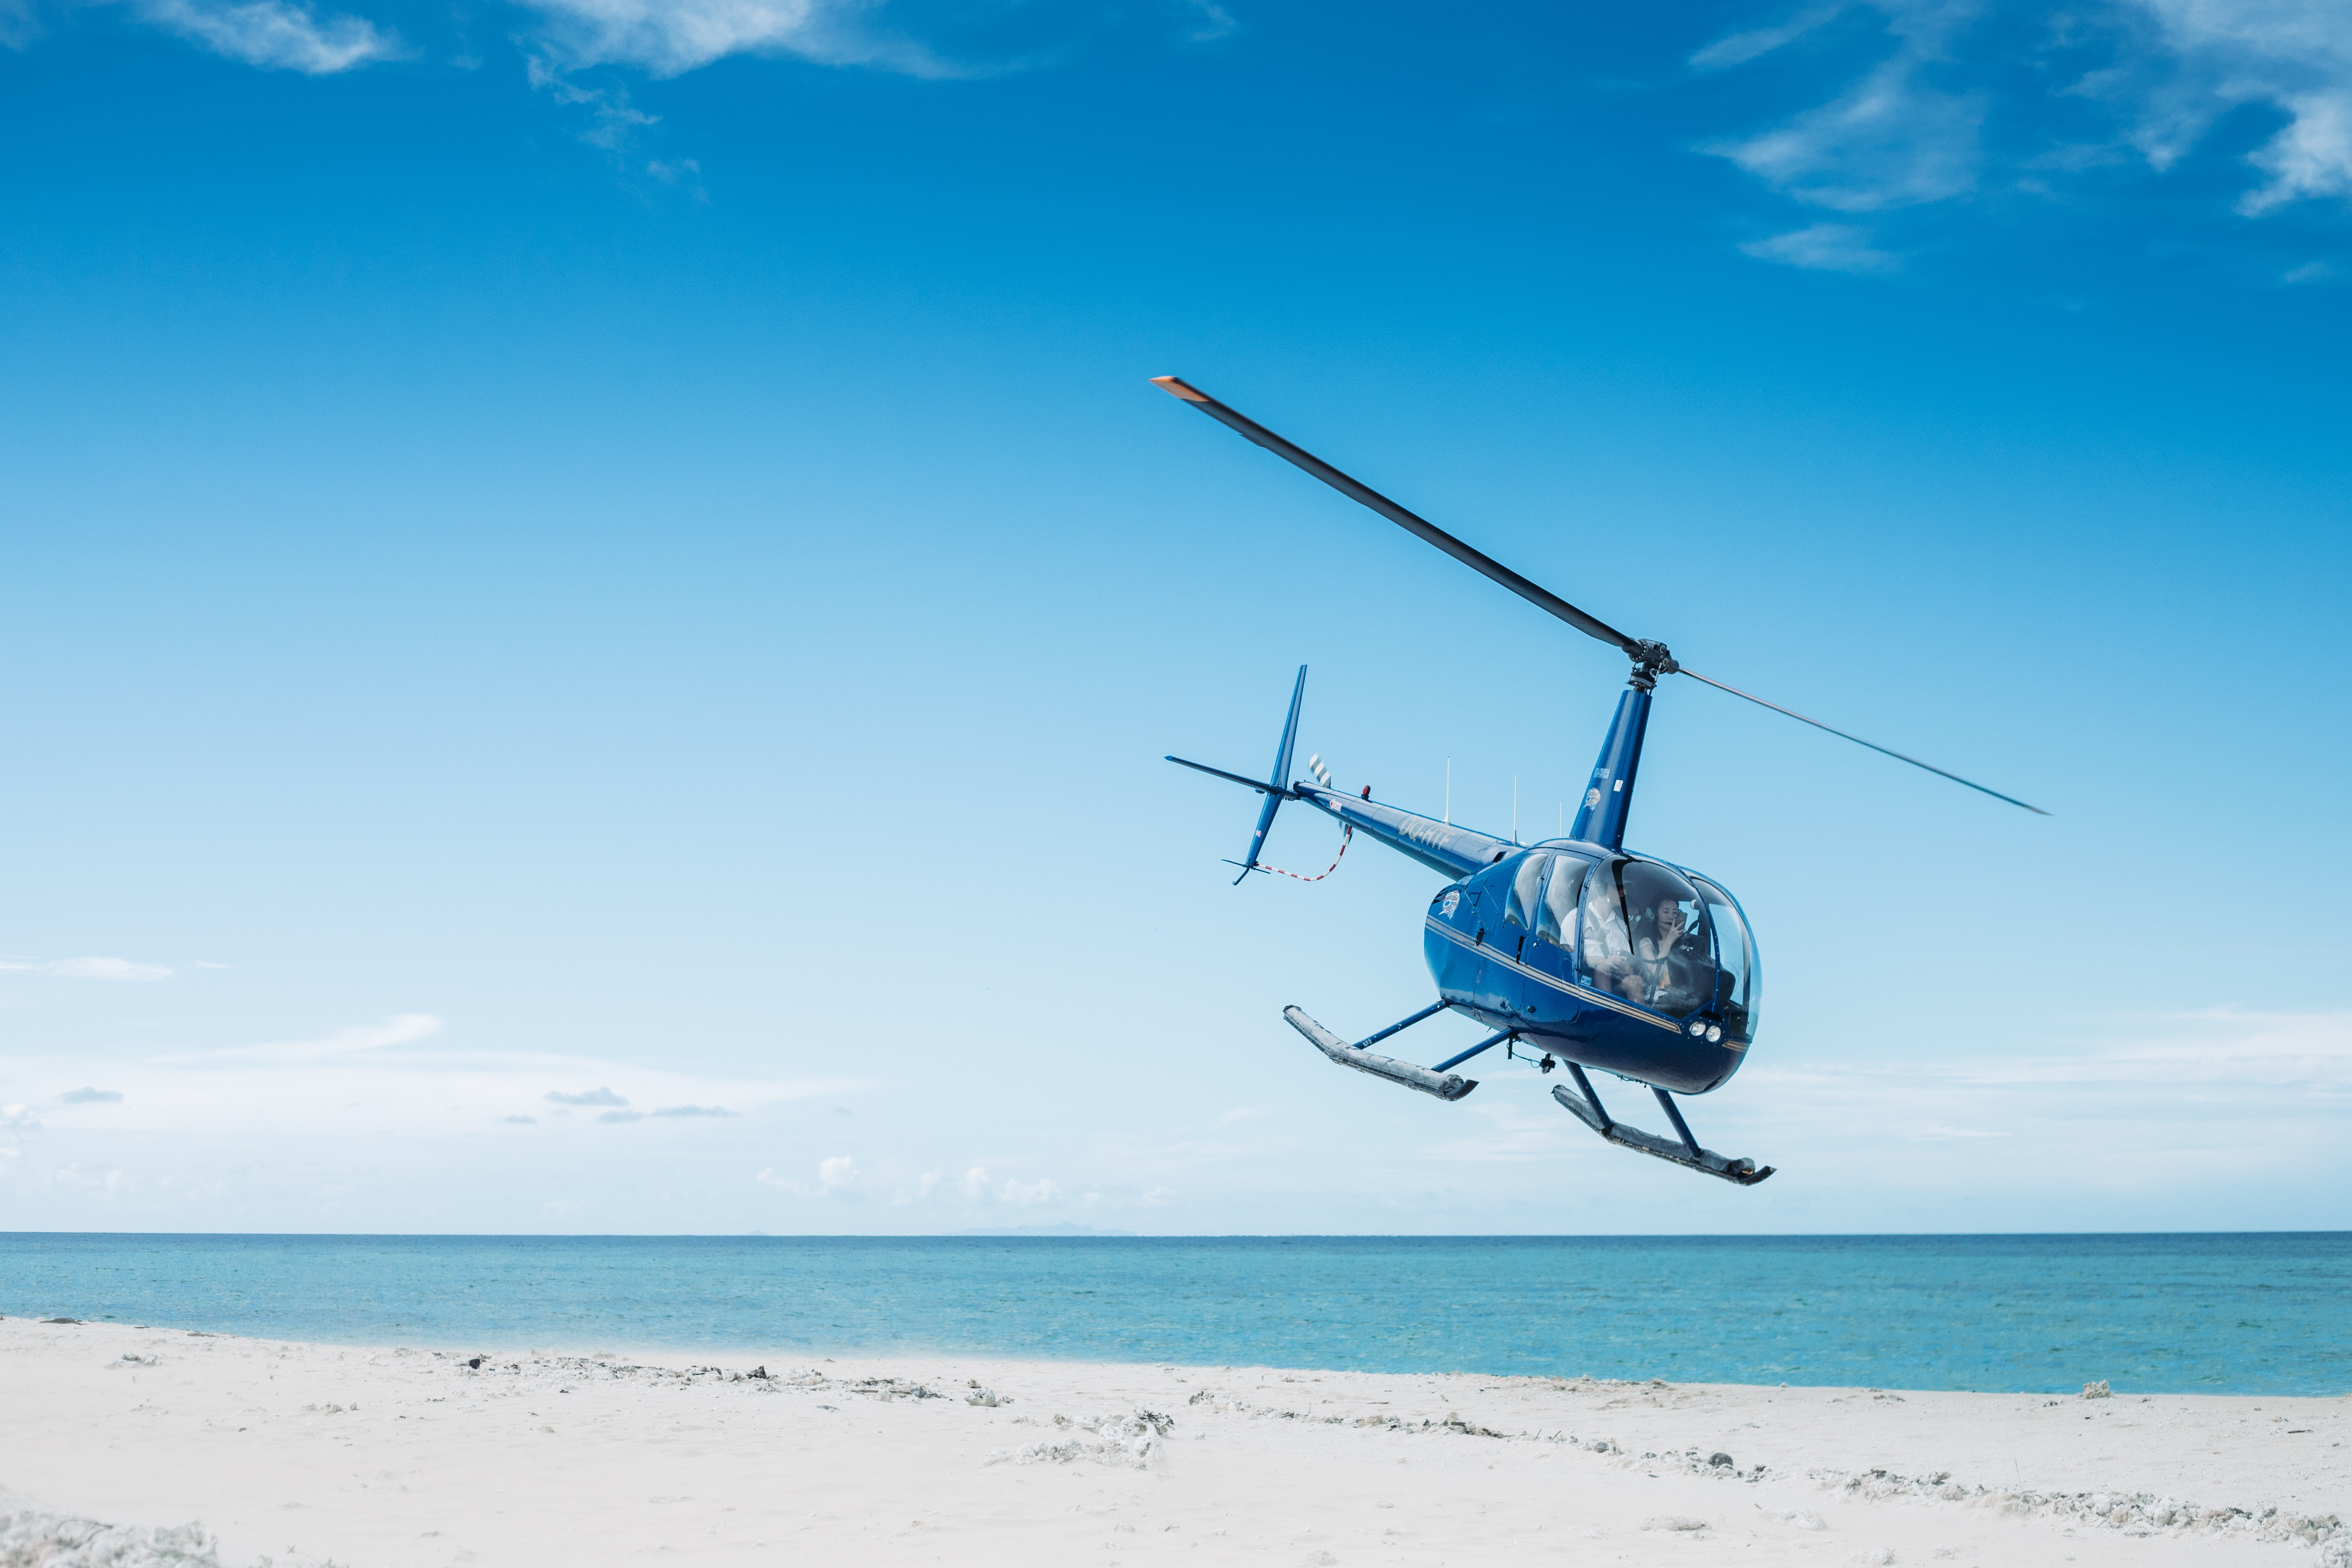helicopter: (1013, 261, 2198, 1253)
